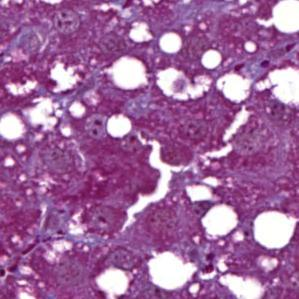steatosis: (106, 54, 149, 94)
